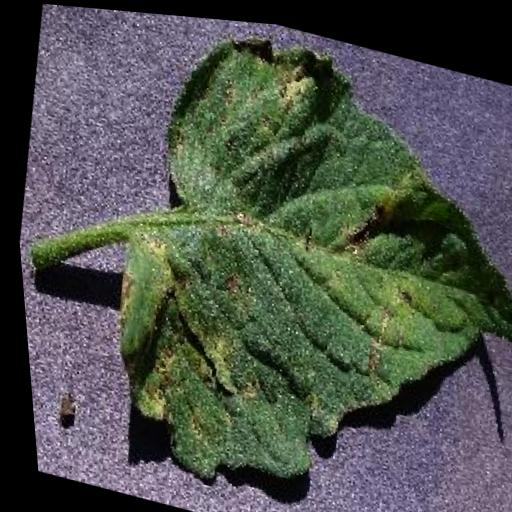Septoria: (61, 4, 512, 512)
